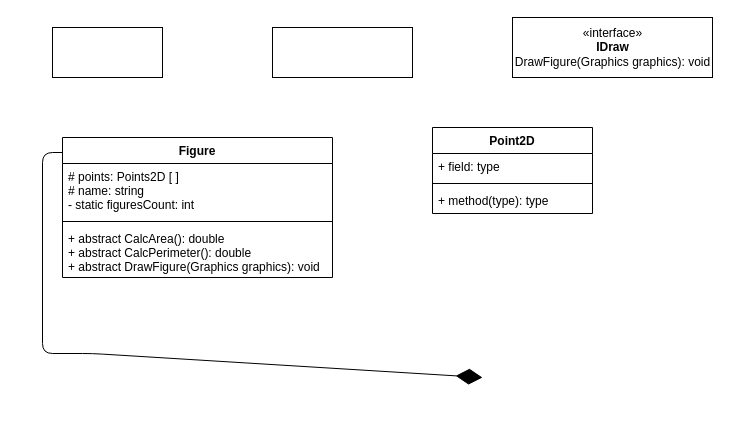
Some shapes in this 730 by 421 pixel diagram are drawn without their labels. The shapes that lost their labels are listed below. From the top down, each one's centre as x and y in pixels, then its label:
the point at 107,52: «interface» ICalcArea CalcArea(): double
the point at 342,52: «interface» ICalcPerimeter CalcPerimeter(): double
